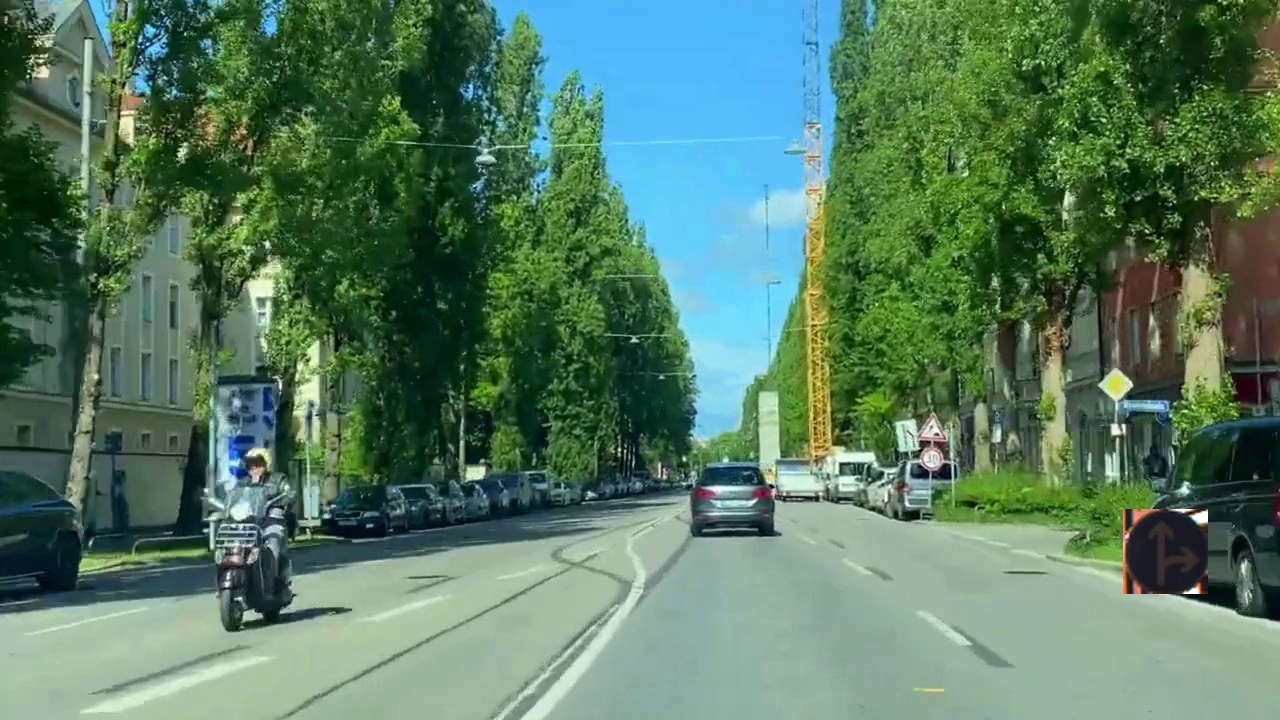Straight/right: (1123, 509, 1208, 594)
